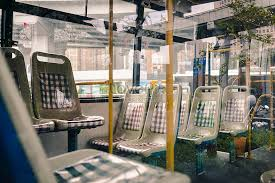seat: (109, 98, 173, 161)
